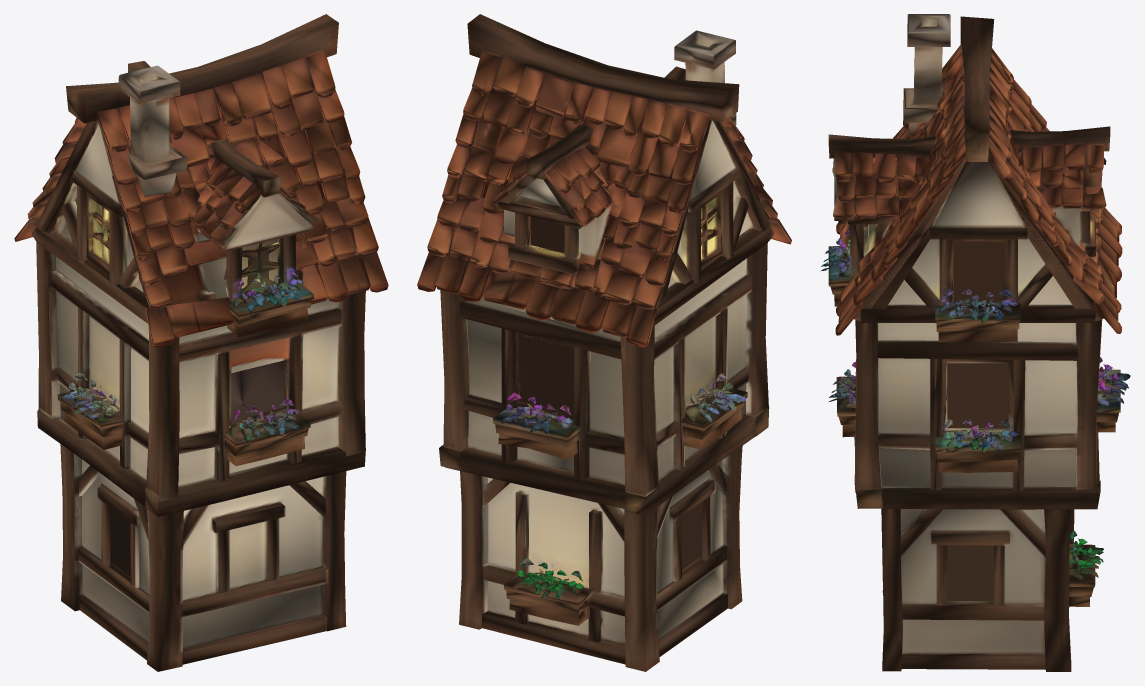
3 views of the same model, side by side, from view 1: azimuth 30°, elevation 25°; view 2: azimuth 150°, elevation 25°; view 3: azimuth 270°, elevation 25° (orthographic).
Parts seen in each view (by area): view 1: tripo_node_e8181bb4; view 2: tripo_node_e8181bb4; view 3: tripo_node_e8181bb4.
Boxes of the visible parts, bbox=[...] form: tripo_node_e8181bb4: bbox=[14, 14, 388, 671]; tripo_node_e8181bb4: bbox=[417, 14, 791, 671]; tripo_node_e8181bb4: bbox=[820, 14, 1130, 671].
Size of the model in its own units: 0.4878 by 0.9995 by 0.4976.
Materials: 1 (1 with a texture image).
